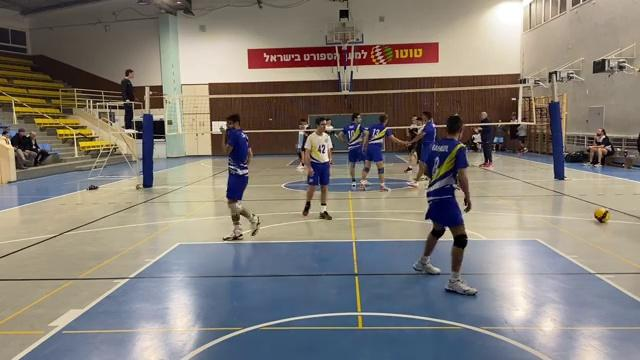ball: (591, 204, 610, 225)
